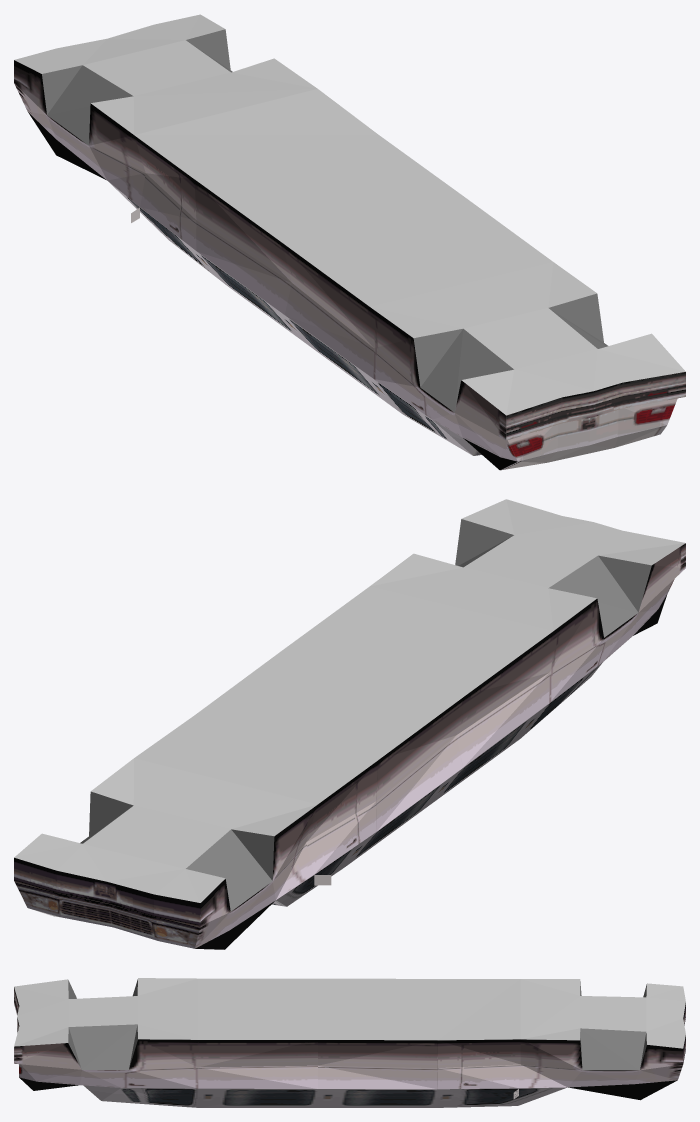
Rendered from VEGAS_model8_damaged.obj.
The picture shows the model from 3 angles, top to bottom: view 1: azimuth 30°, elevation 25°; view 2: azimuth 150°, elevation 25°; view 3: azimuth 270°, elevation 25°; orthographic projection. The views are drawn at different scales.
Parts seen in each view (by area): view 1: VEGAS_model8_damaged; view 2: VEGAS_model8_damaged; view 3: VEGAS_model8_damaged.
Boxes of the visible parts, x1,y1,x2,y2 form: VEGAS_model8_damaged: (14,14,685,470); VEGAS_model8_damaged: (14,499,685,949); VEGAS_model8_damaged: (14,978,685,1107).
Bounding box in the file's own units: 292 × 166 × 1240.
